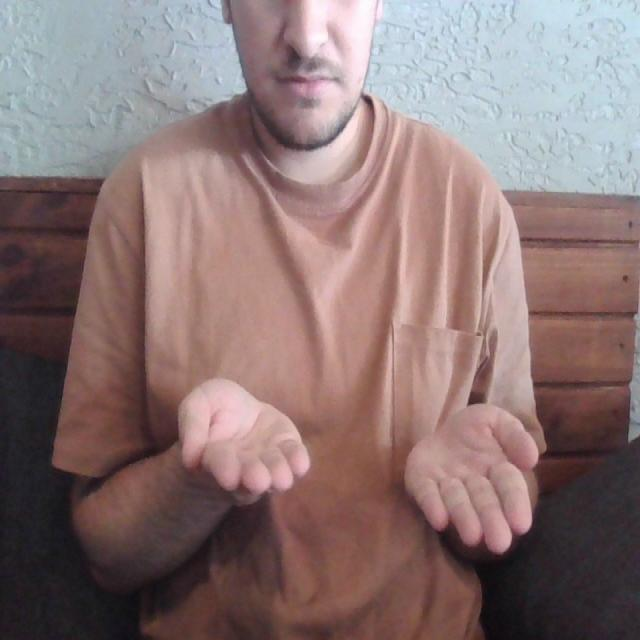Evet: (175, 373, 546, 557)
